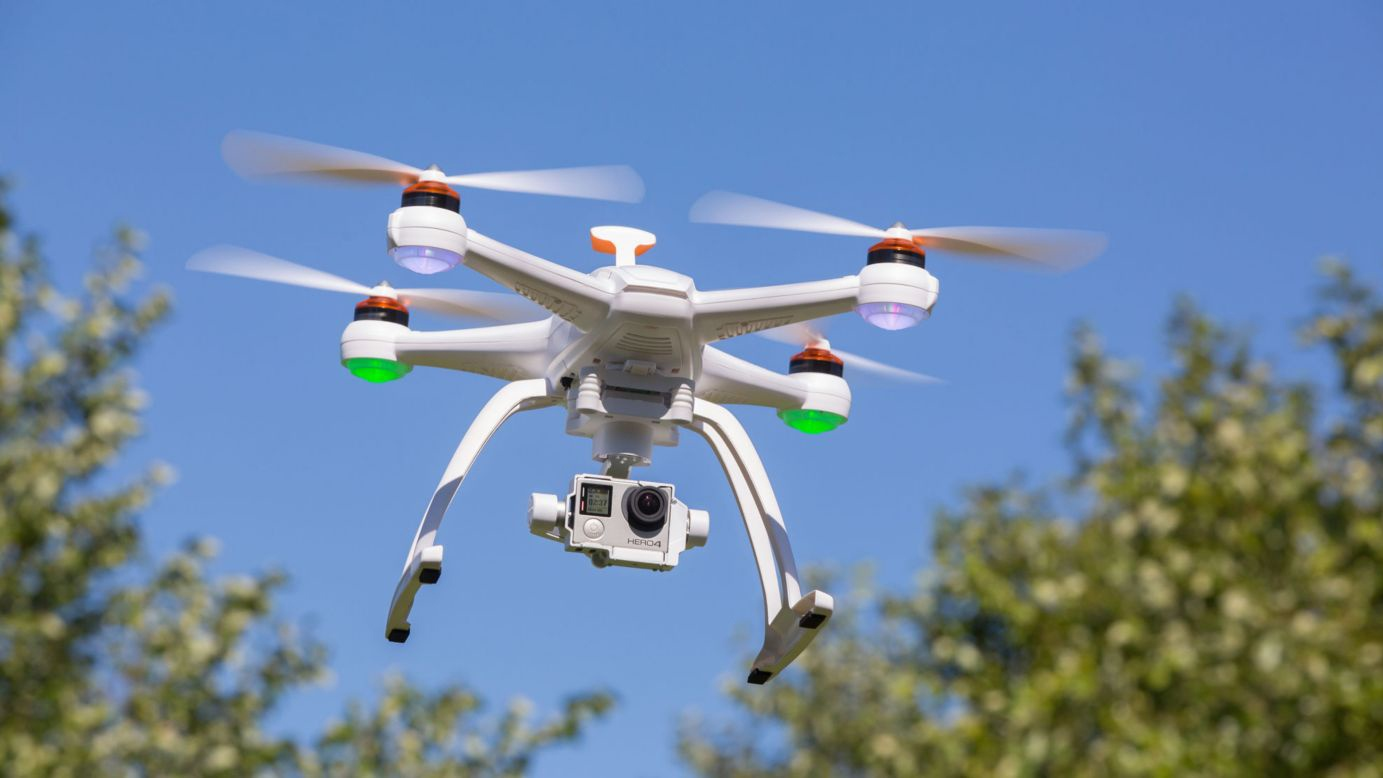drone: (185, 123, 1114, 690)
